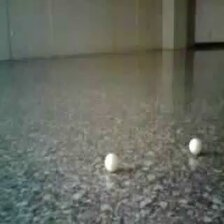w: (104, 153, 119, 170), (189, 138, 202, 154)
